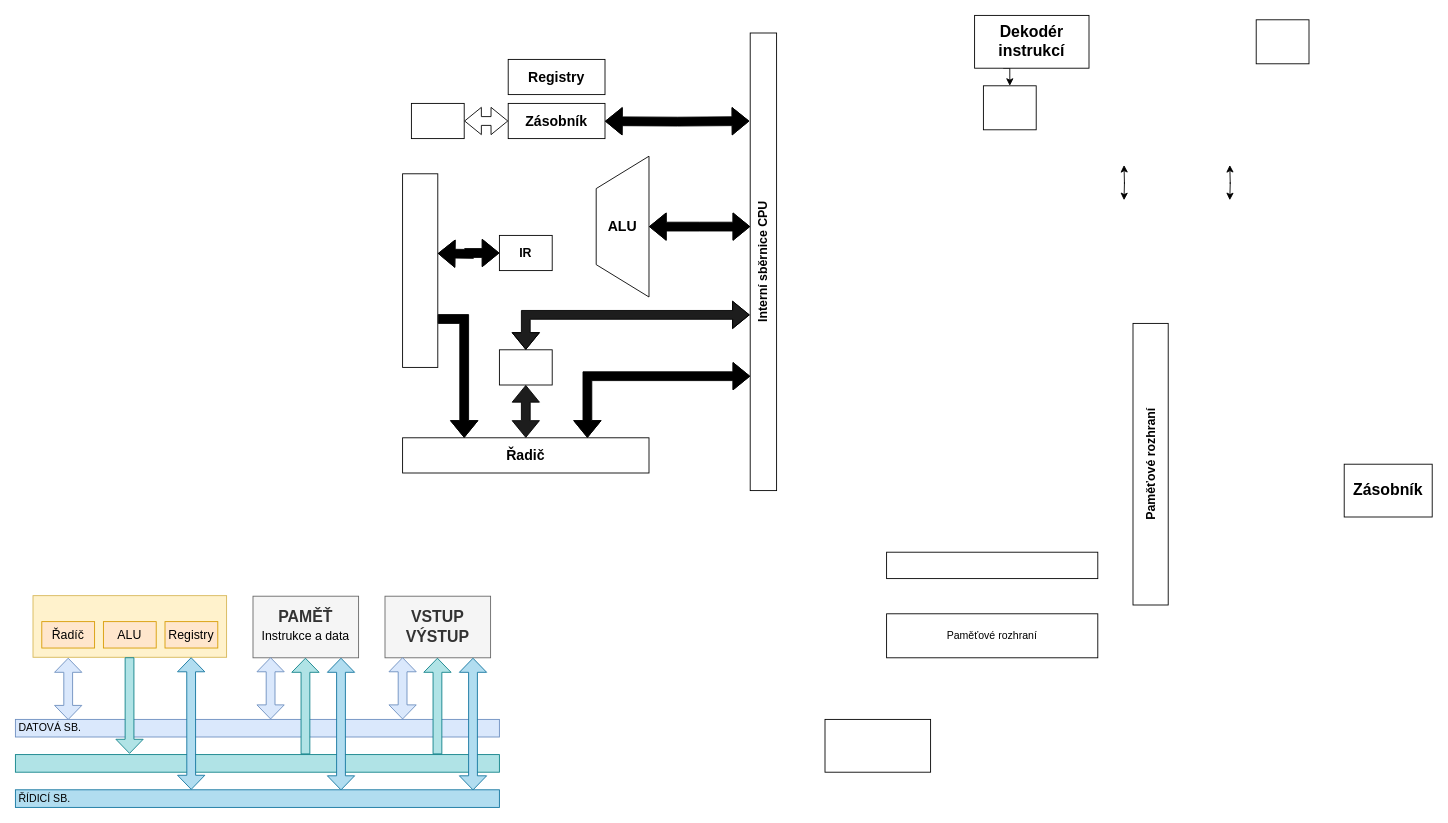
The diagram is 1448 pixels wide and 823 high, and some of its shapes have lost their labels. Here are the shapes that lost their labels. From the top down, the box of each, then its label:
(1255, 19, 1309, 64): PC Program Counter
(411, 103, 464, 139): SP
(983, 85, 1036, 130): IR Instruction Register
(402, 173, 438, 367): Dekóder insturkcí
(499, 349, 552, 385): PC
(886, 551, 1098, 579): Sběrnice
(32, 595, 227, 657): CPU
(15, 754, 499, 772): ADRESOVÁ SB.
